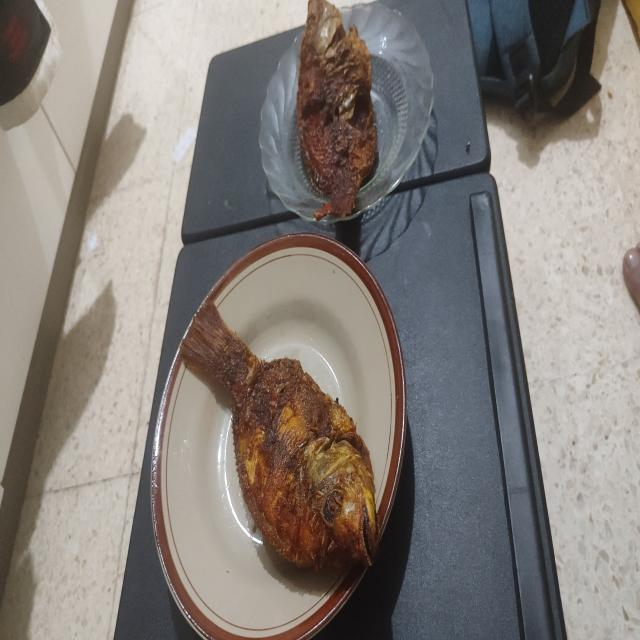ikan_mujair: (180, 298, 378, 570), (296, 0, 378, 220)
